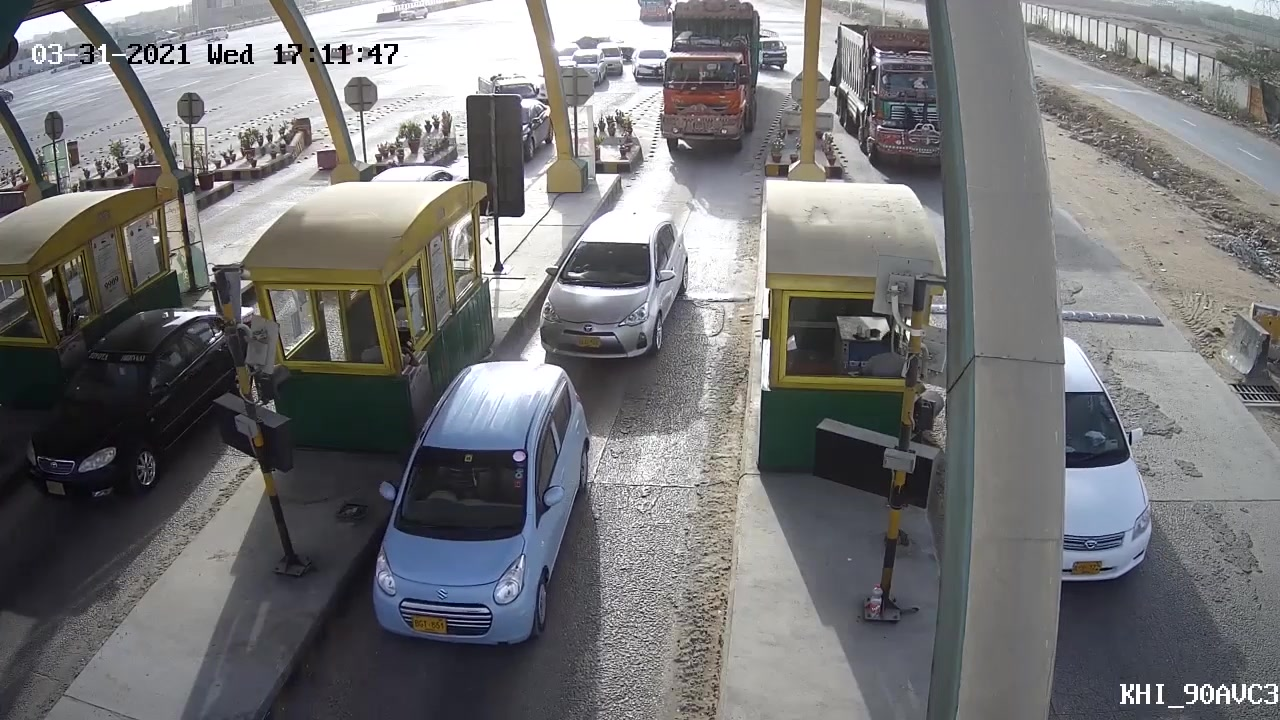F1: (363, 360, 600, 664), (540, 205, 693, 362)
